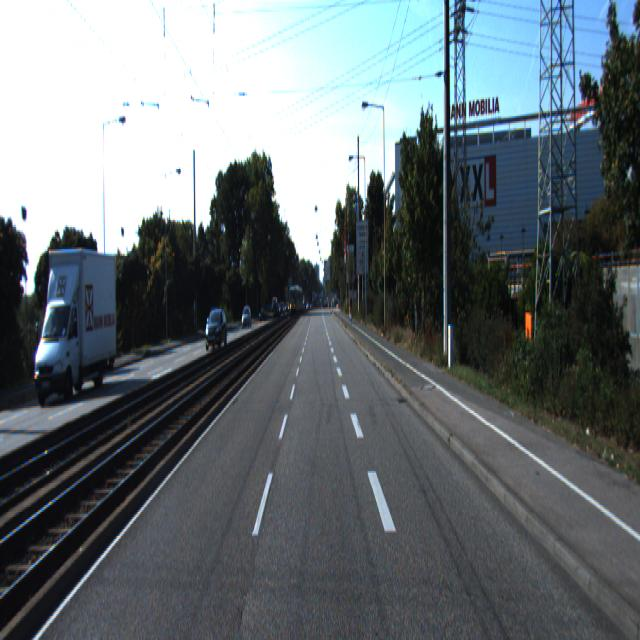Car: (204, 309, 228, 353)
DontCare: (237, 277, 343, 336)
Truck: (30, 243, 120, 408)
